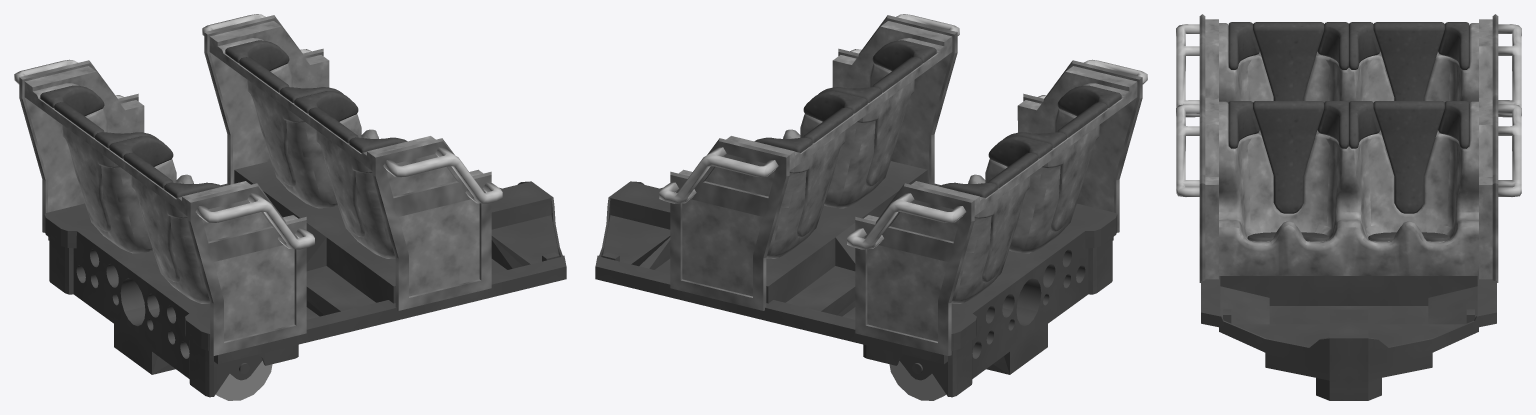
File: car.obj
3 views of the same model, side by side, from view 1: azimuth 30°, elevation 25°; view 2: azimuth 150°, elevation 25°; view 3: azimuth 270°, elevation 25° (orthographic). The views are drawn at different scales.
Bounding box in the file's own units: 2.05 × 1.02 × 1.6.
